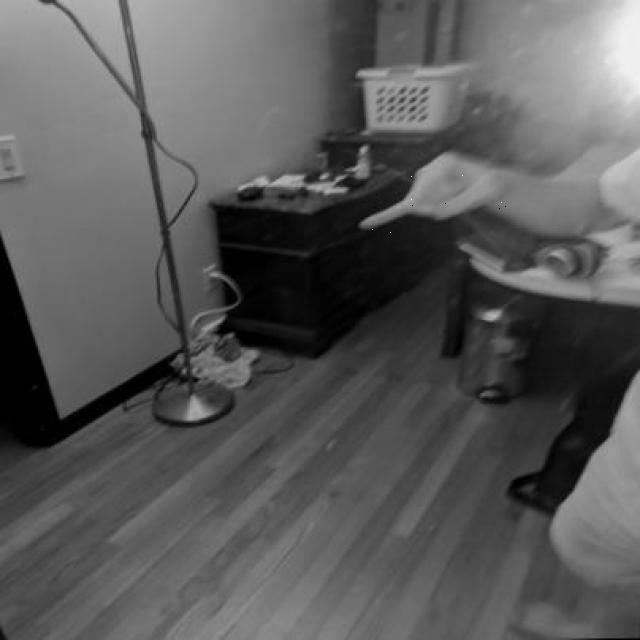J: (354, 145, 511, 240)
